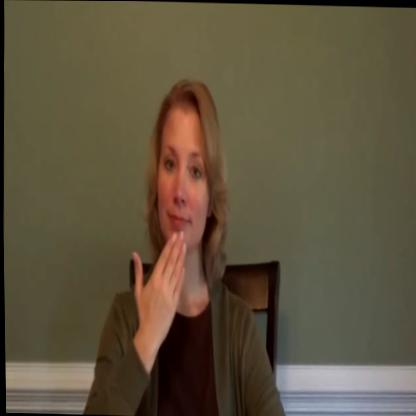ThankYou: (76, 73, 289, 416)
